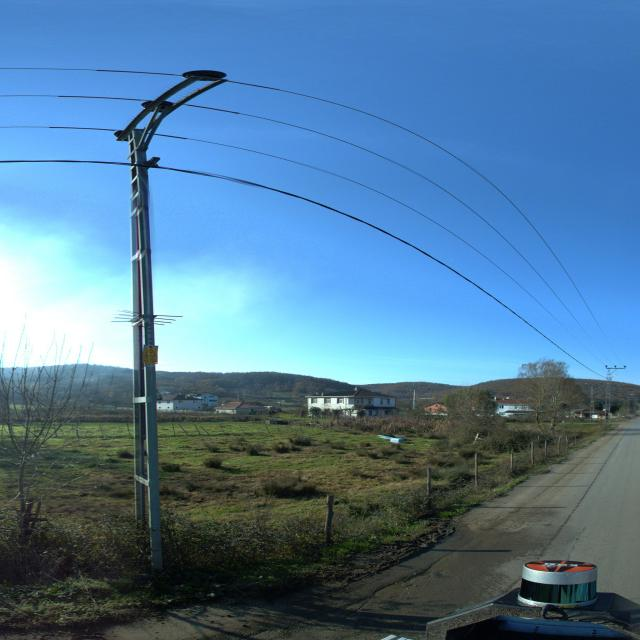Utility Pole Information Plate: (143, 346, 158, 364)
